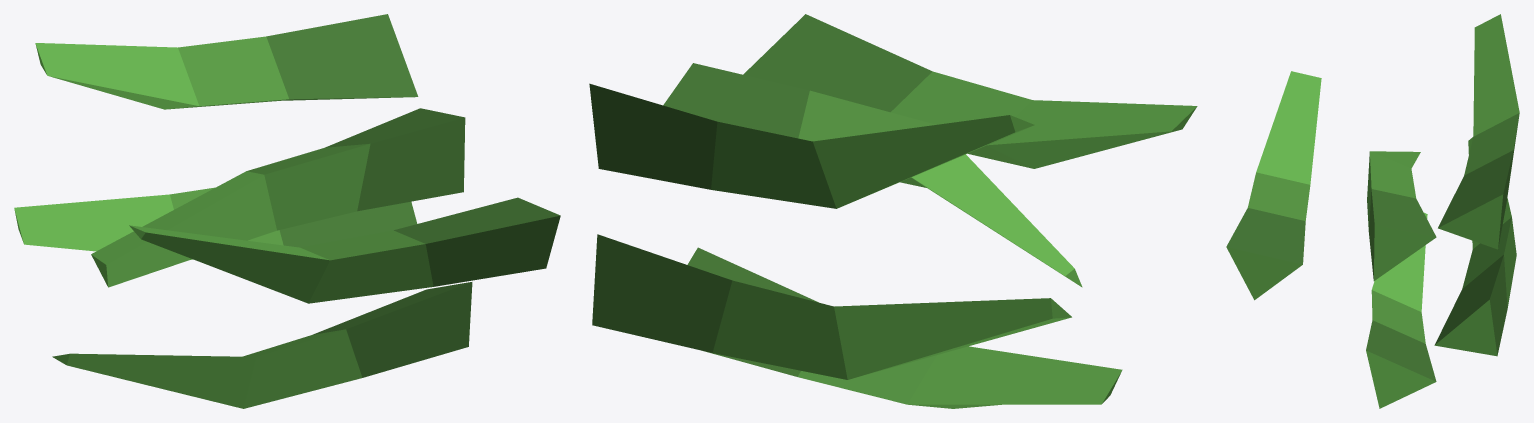
Rendered from grass.fbx.
3 renders of one model, left to right at view 1: azimuth 30°, elevation 25°; view 2: azimuth 150°, elevation 25°; view 3: azimuth 270°, elevation 25°, orthographic. The views are drawn at different scales.
Parts seen in each view (by area): view 1: GrassBundle; view 2: GrassBundle; view 3: GrassBundle.
Boxes of the visible parts, x1=… form: GrassBundle: x1=14, y1=14, x2=560, y2=408; GrassBundle: x1=589, y1=14, x2=1197, y2=408; GrassBundle: x1=1226, y1=14, x2=1519, y2=408.
Bounding box in the file's own units: 12.33 × 10.28 × 10.37.
